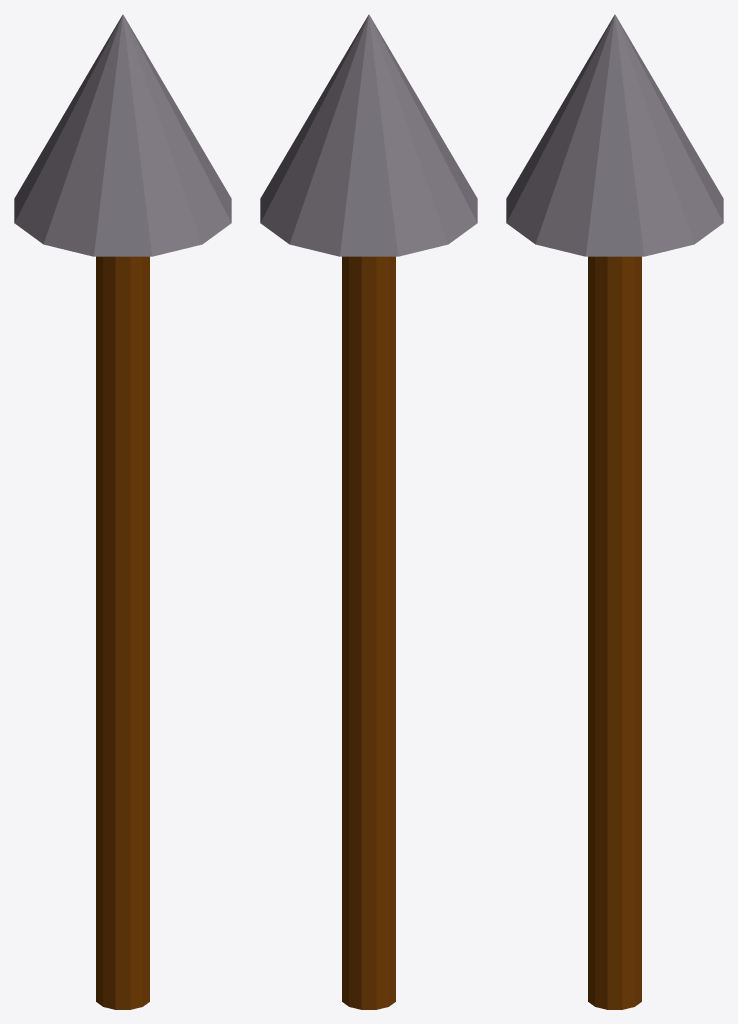
Rendered from Arrow.gltf.
3 renders of one model, left to right at view 1: azimuth 30°, elevation 25°; view 2: azimuth 150°, elevation 25°; view 3: azimuth 270°, elevation 25°, orthographic.
Visible parts, largest first — view 1: cylinder, cone; view 2: cylinder, cone; view 3: cylinder, cone.
Boxes of the visible parts, <box> form: cylinder: <box>96,256,149,1009</box>; cone: <box>14,14,231,256</box>; cylinder: <box>342,256,395,1009</box>; cone: <box>260,14,477,256</box>; cylinder: <box>588,256,641,1009</box>; cone: <box>506,14,723,256</box>.
Size of the model in its own units: 0.125 by 0.625 by 0.125.
1 material, 1 textured.
